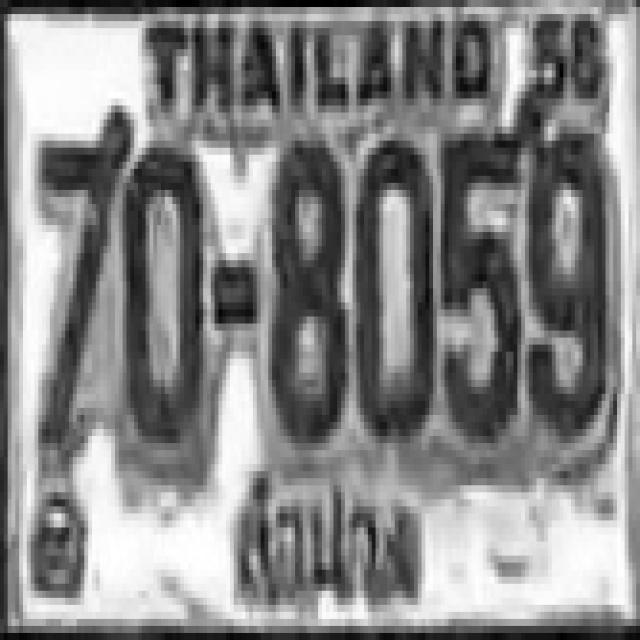0: (121, 137, 205, 454), (353, 134, 429, 436)
5: (437, 127, 517, 436)
7: (33, 102, 128, 461)
8: (268, 134, 345, 436)
9: (525, 123, 606, 433)
Lampang: (230, 468, 428, 604)
